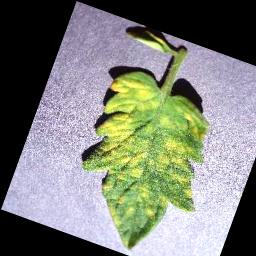Leaf_Mold: (59, 62, 234, 256)
